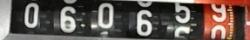digits: (59, 6, 76, 32), (136, 9, 152, 35), (97, 3, 113, 27), (24, 3, 39, 27), (174, 3, 190, 22), (210, 4, 226, 22)
